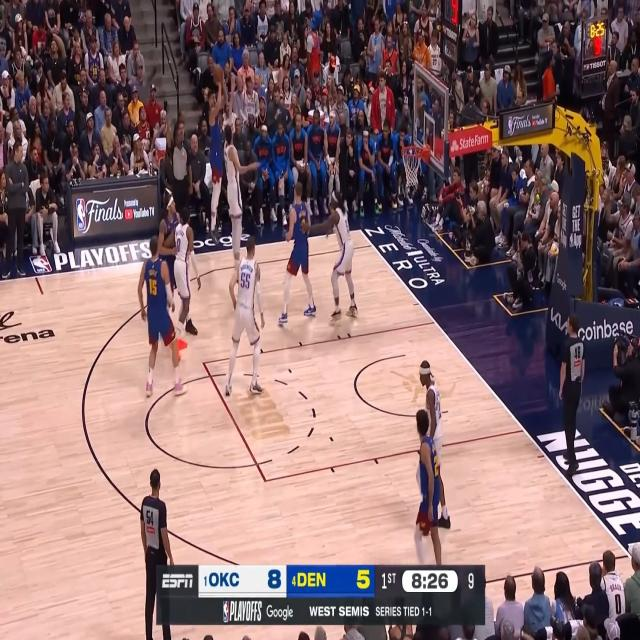ball: (214, 63, 224, 83)
number: (240, 271, 251, 289), (148, 278, 158, 295), (176, 237, 181, 252)
player: (138, 234, 187, 397), (300, 188, 359, 322), (226, 236, 264, 396), (278, 182, 317, 328), (419, 360, 451, 528), (168, 204, 202, 361), (413, 407, 443, 566)
player-jump-shot: (206, 63, 228, 248)
player-screen: (158, 194, 198, 336)
player-shot-block: (223, 73, 262, 285)
referee: (139, 468, 176, 640), (558, 312, 586, 478), (168, 126, 195, 212)
rim: (401, 145, 423, 157)
